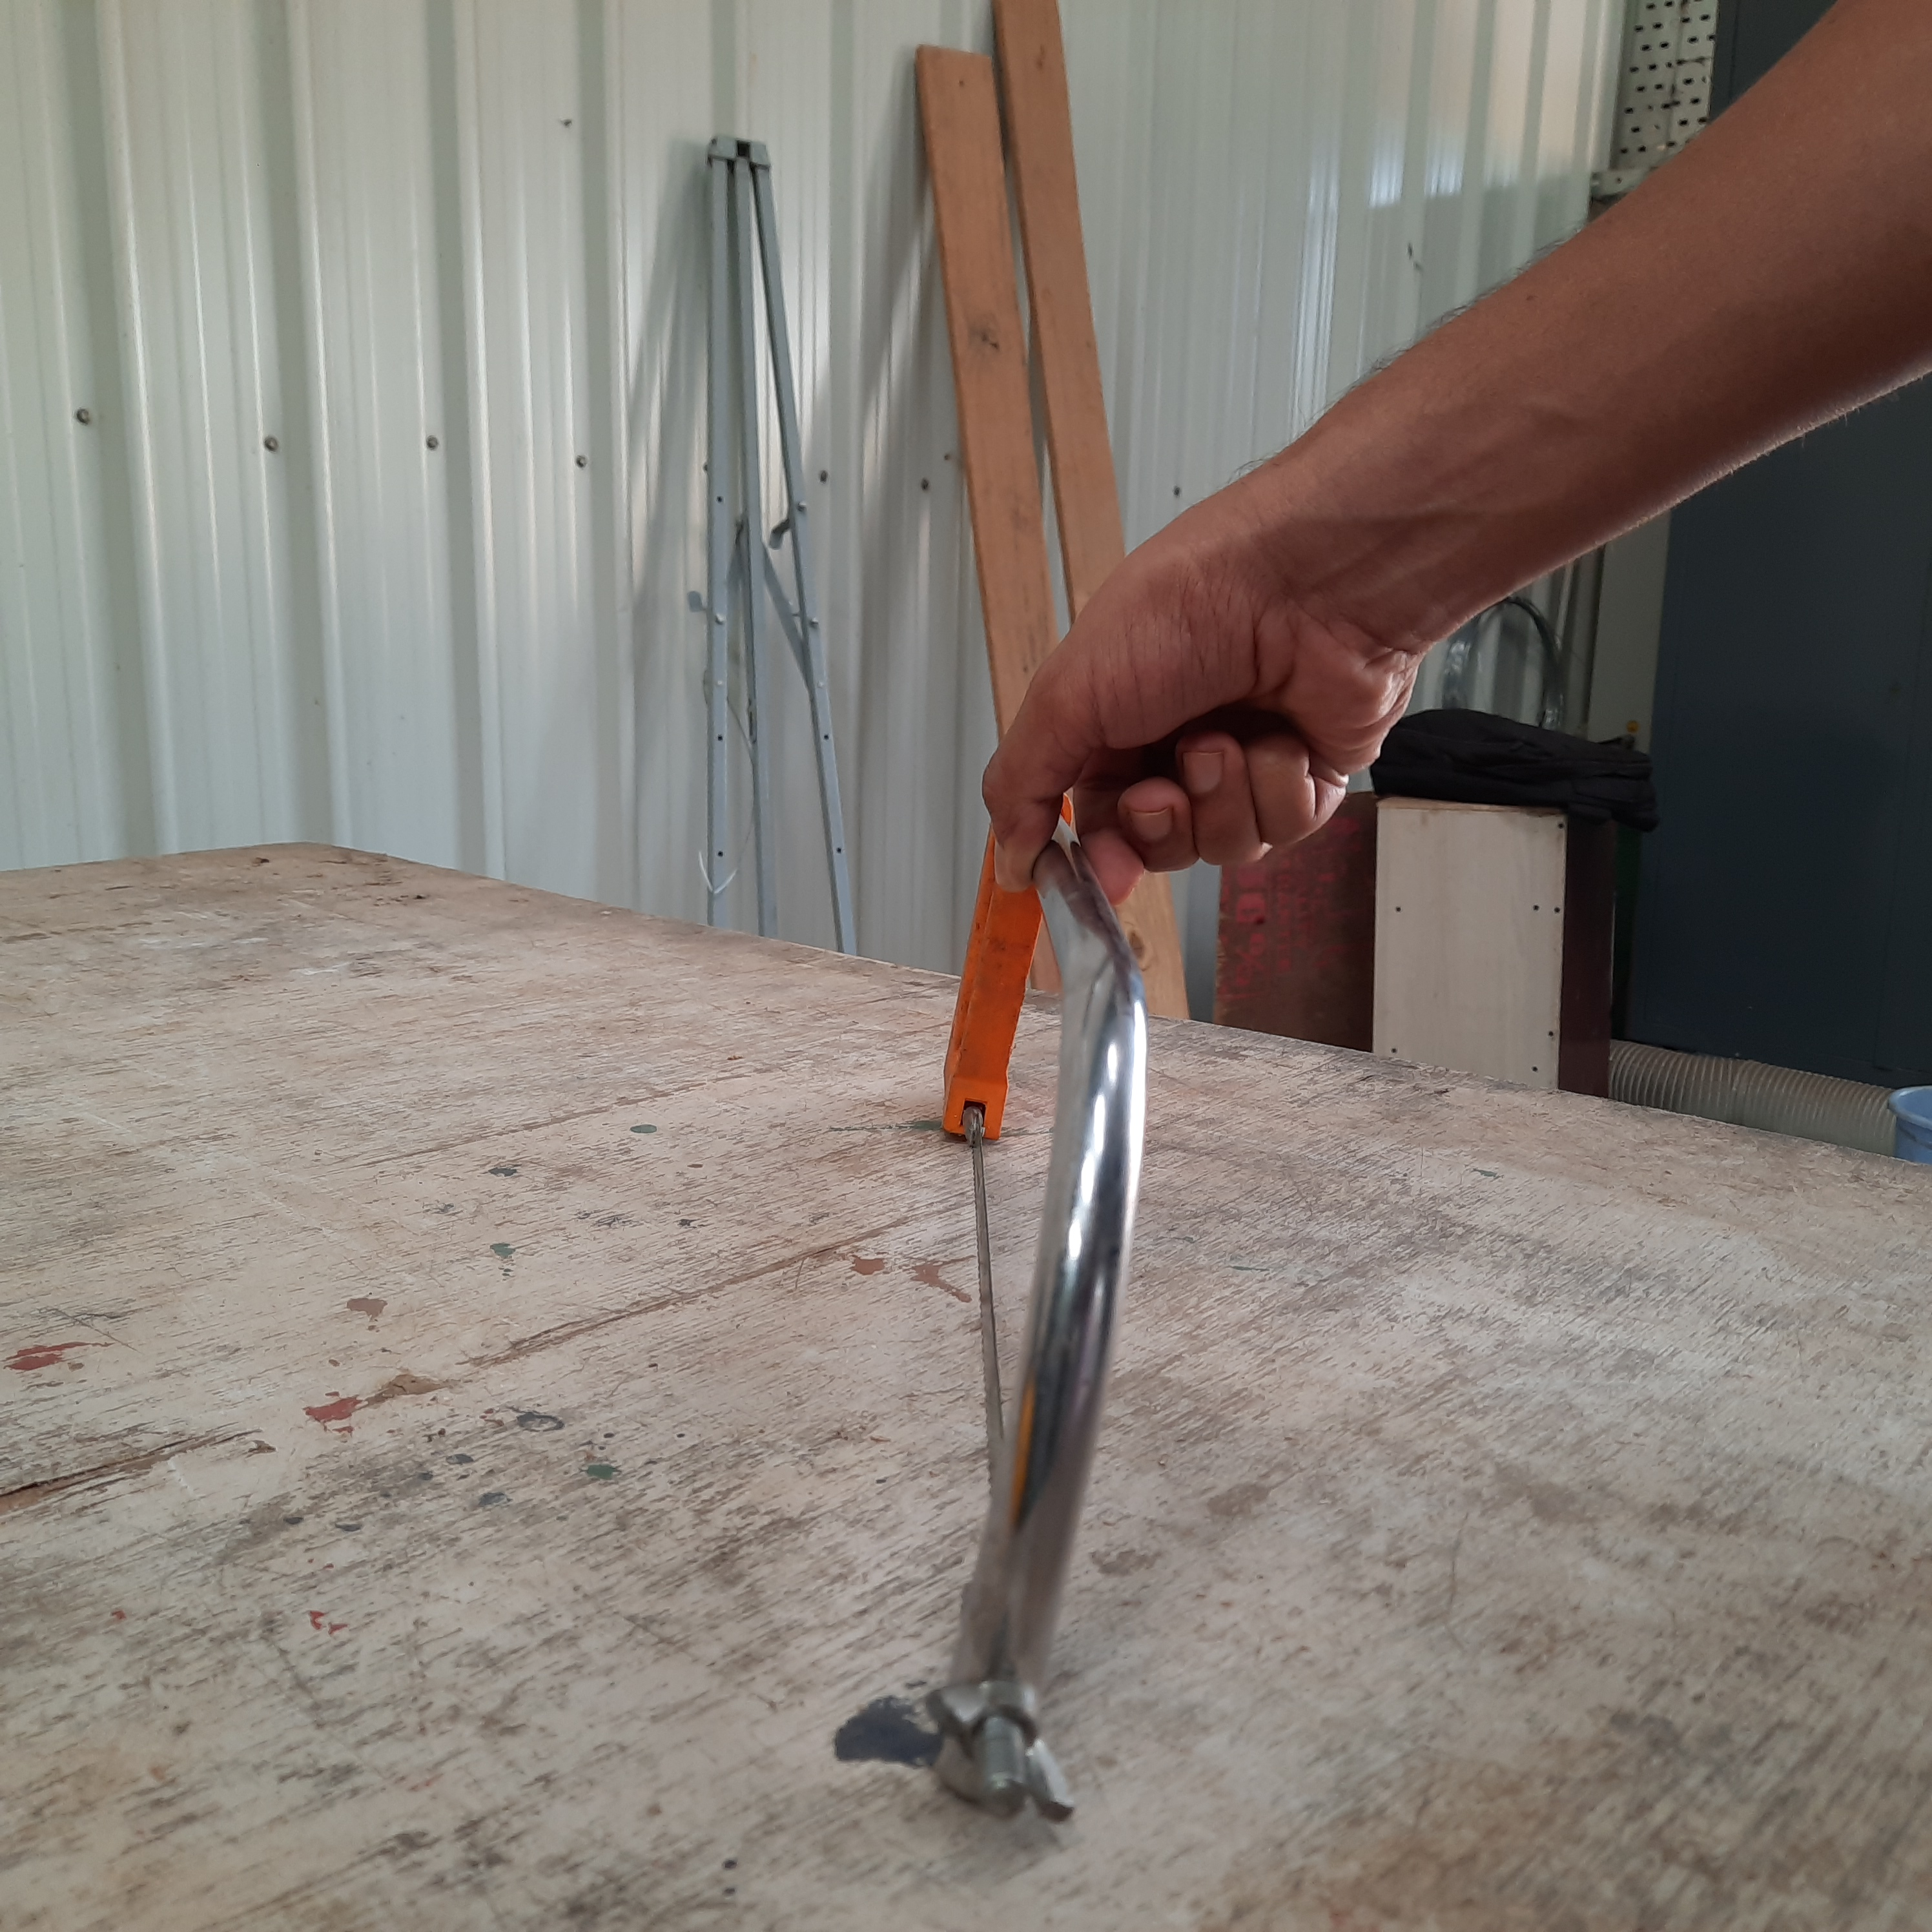Hexaframe: (819, 722, 1260, 1844)
